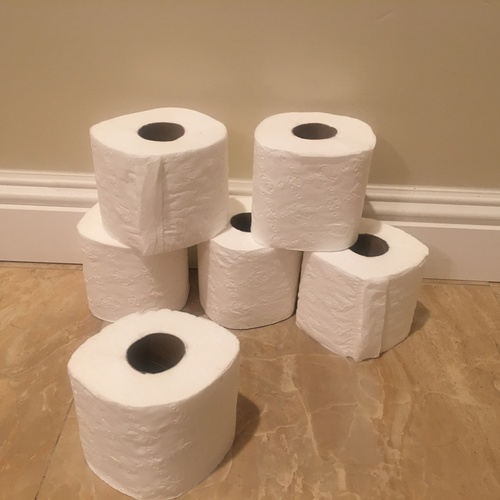roll: (65, 308, 244, 500), (87, 106, 230, 255), (293, 216, 429, 362), (248, 111, 378, 253), (196, 193, 302, 330), (75, 200, 190, 323)
